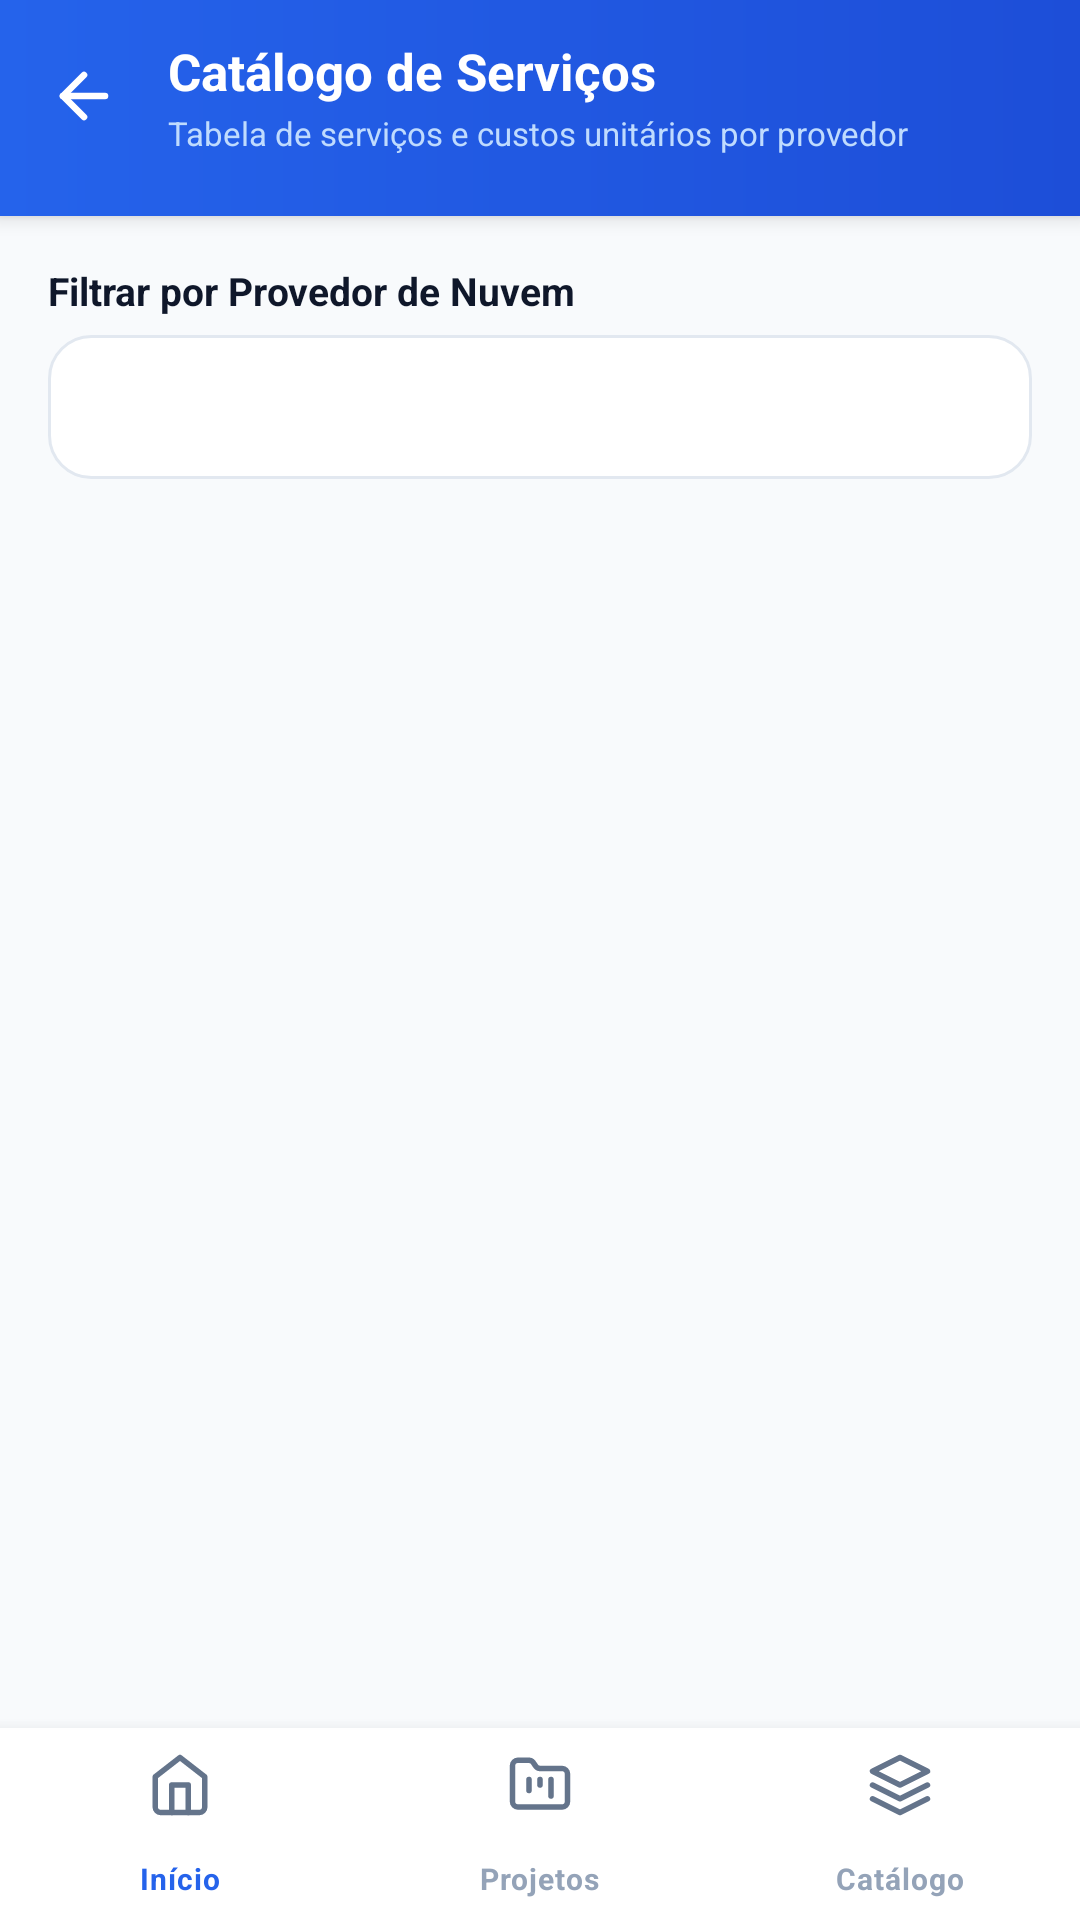

Named icons in this screenshot (1080x1920) and their centers, (x=x, y=y):
Voltar: (x=84, y=96)
